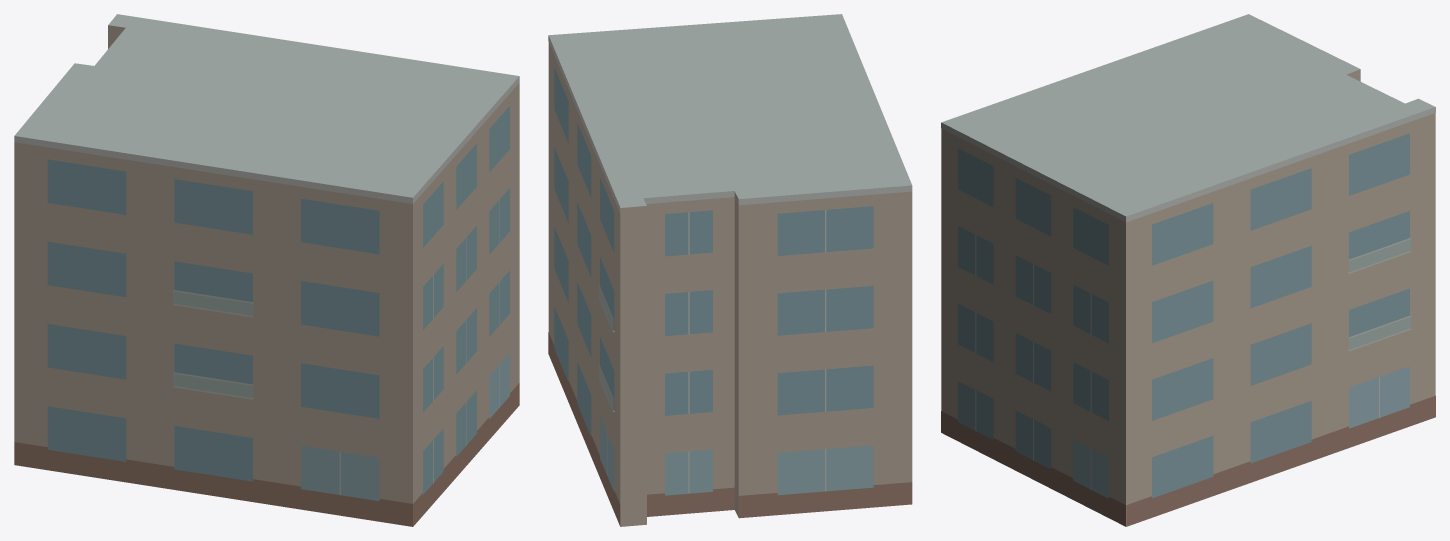
The model's file is survey-upis-32489382.glb.
3 views of the same model, side by side, from view 1: azimuth 30°, elevation 25°; view 2: azimuth 150°, elevation 25°; view 3: azimuth 270°, elevation 25° (orthographic). The views are drawn at different scales.
Visible parts, largest first — view 1: survey-upis-32489382.tmp; view 2: survey-upis-32489382.tmp; view 3: survey-upis-32489382.tmp.
Part boxes in pixels (x1,y1,x2,y2): survey-upis-32489382.tmp: (14,14,519,526); survey-upis-32489382.tmp: (548,14,912,526); survey-upis-32489382.tmp: (941,14,1435,526).
Size of the model in its own units: 17.92 by 12.79 by 18.48.
